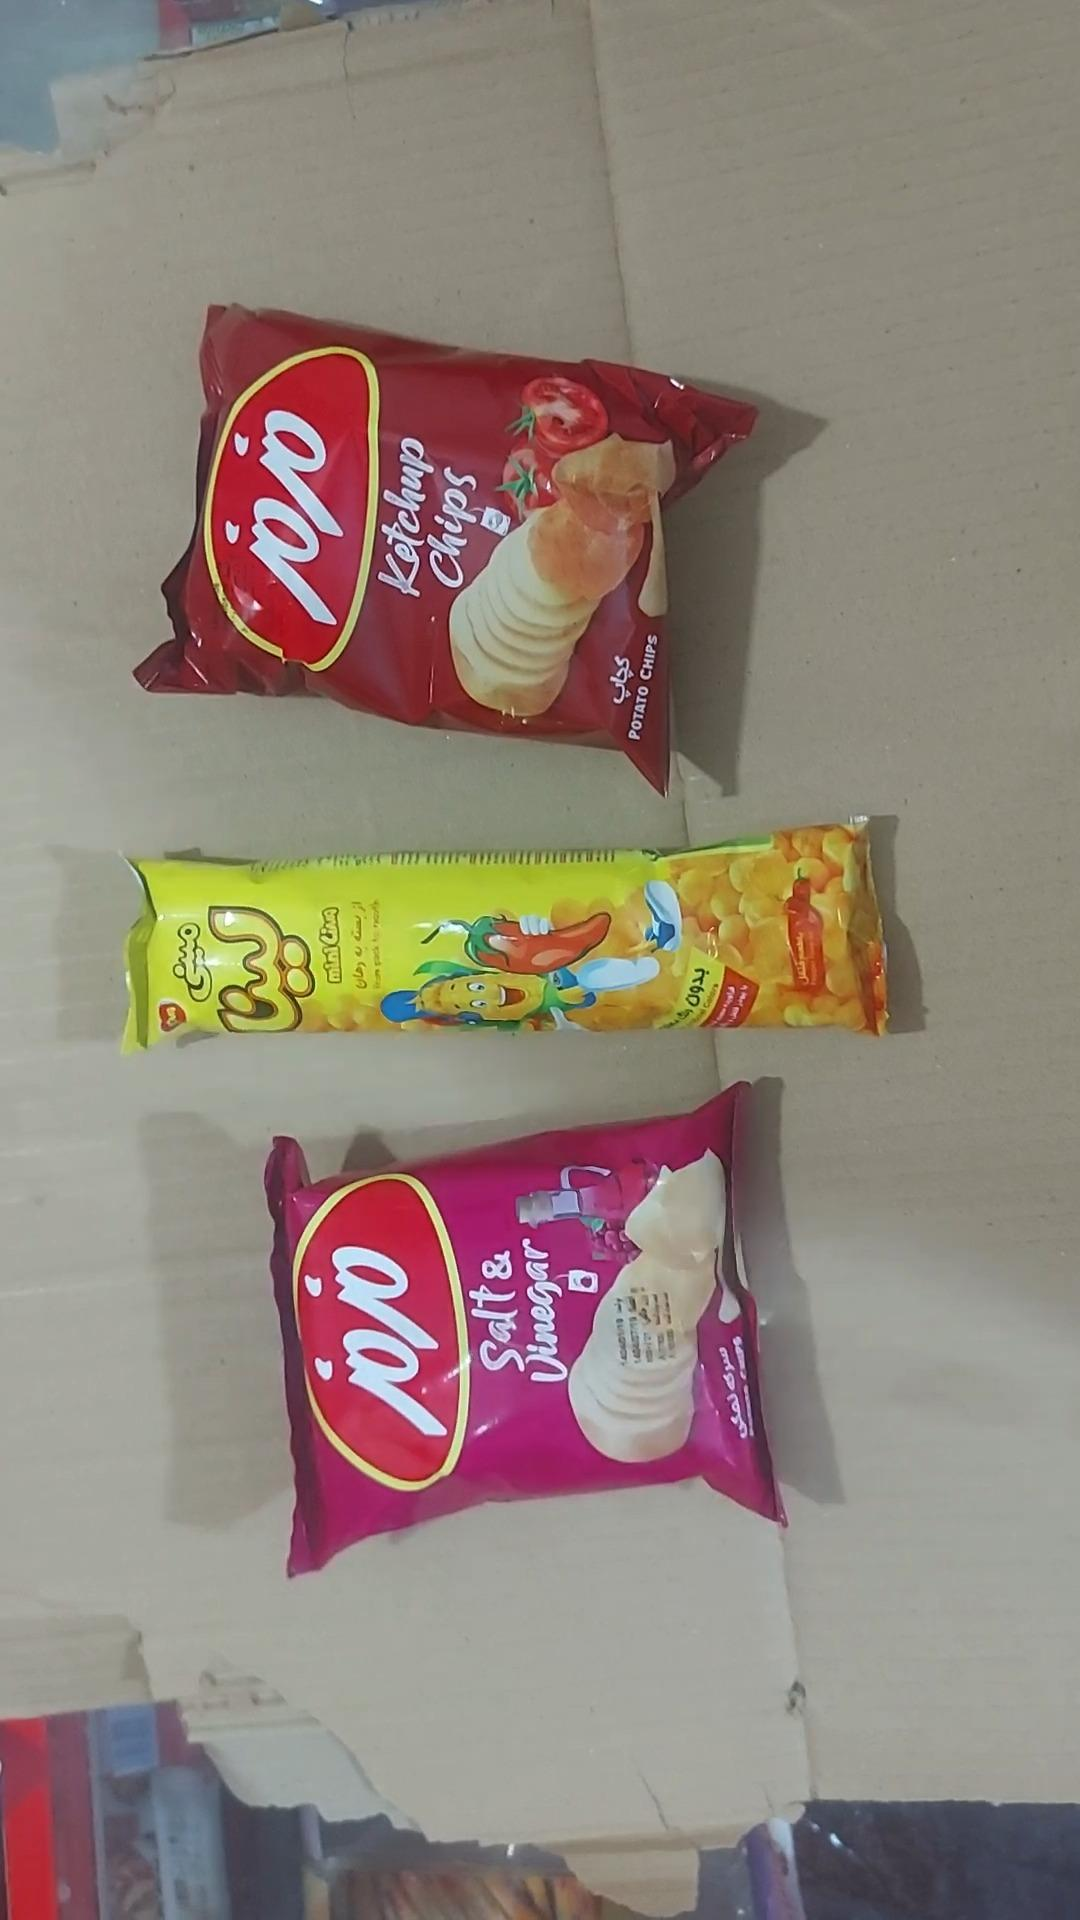Maz Maz ketchup chips: (136, 306, 756, 793)
Maz Maz vinegar chips: (266, 1087, 782, 1575)
Mini Lina: (124, 822, 887, 1050)
